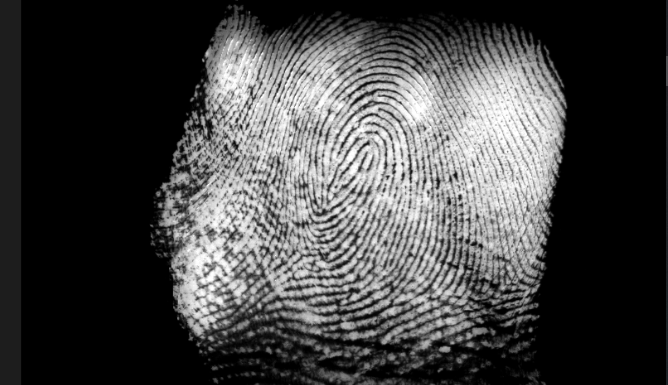deltas: (484, 248, 537, 309), (278, 228, 336, 273)
nucleo: (329, 134, 383, 193)
